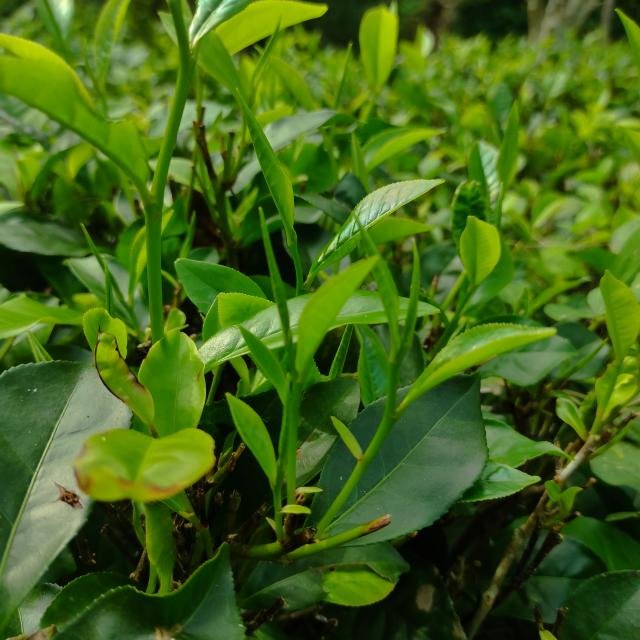unopened_leaf: (248, 201, 300, 386), (344, 200, 402, 361), (382, 226, 432, 396), (76, 212, 144, 319), (323, 38, 364, 146), (243, 14, 287, 94)
